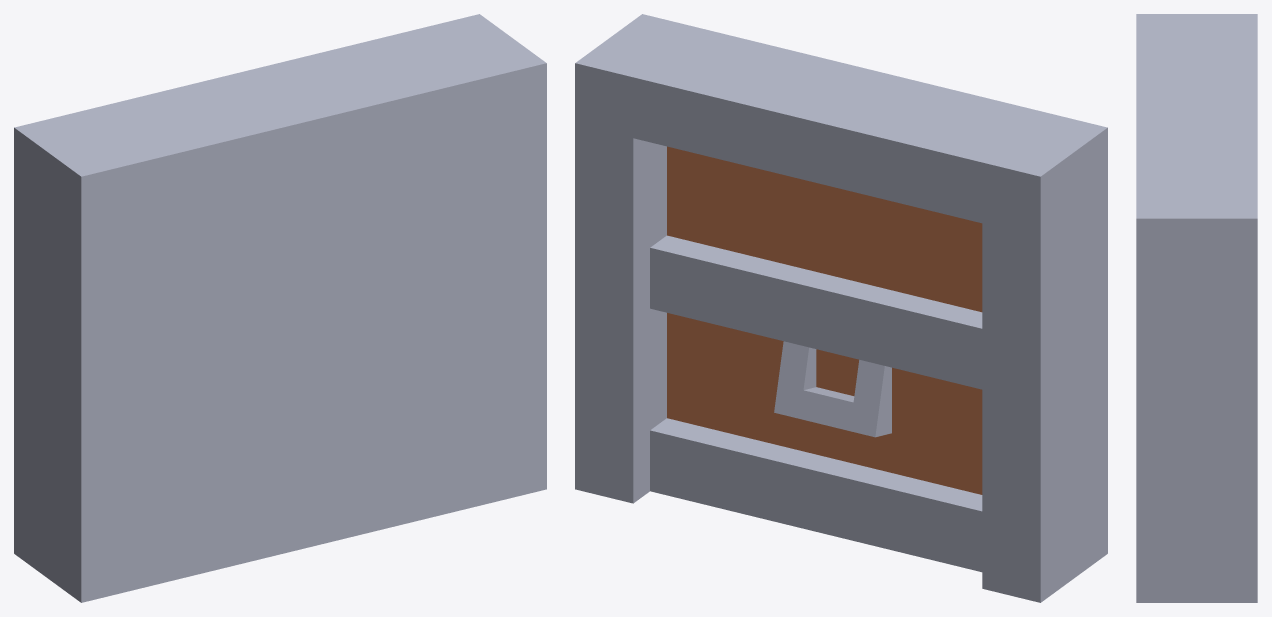
Rendered from door.glb.
3 renders of one model, left to right at view 1: azimuth 30°, elevation 25°; view 2: azimuth 150°, elevation 25°; view 3: azimuth 270°, elevation 25°, orthographic. The views are drawn at different scales.
Parts seen in each view (by area): view 1: door; view 2: door; view 3: door.
Boxes of the visible parts, x1,y1,x2,y2 form: door: [14, 14, 546, 602]; door: [575, 14, 1107, 602]; door: [1136, 14, 1257, 602].
Bounding box in the file's own units: 0.8 × 0.7 × 0.2.
